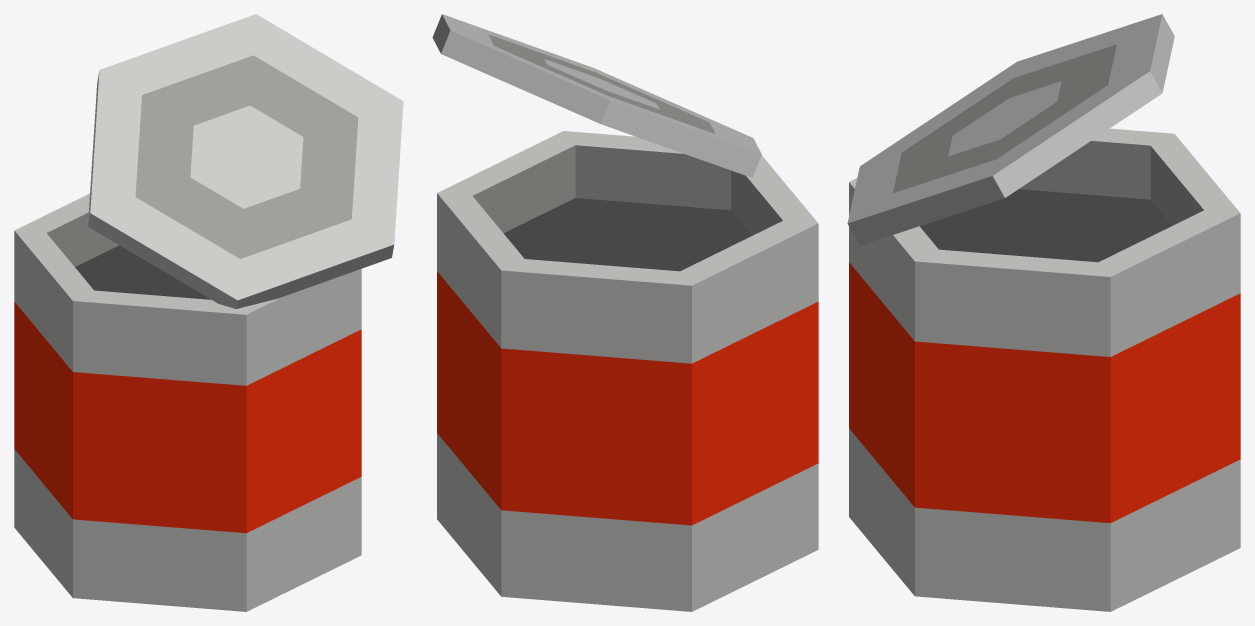
File: Red_tin_2.fbx
3 views of the same model, side by side, from view 1: azimuth 30°, elevation 25°; view 2: azimuth 150°, elevation 25°; view 3: azimuth 270°, elevation 25° (orthographic). The views are drawn at different scales.
Parts seen in each view (by area): view 1: Cylinder.002; view 2: Cylinder.002; view 3: Cylinder.002.
Boxes of the visible parts, x1=… form: Cylinder.002: x1=14, y1=14, x2=403, y2=611; Cylinder.002: x1=432, y1=14, x2=818, y2=611; Cylinder.002: x1=847, y1=14, x2=1240, y2=611.
Bounding box in the file's own units: 97.77 × 128 × 86.85.
